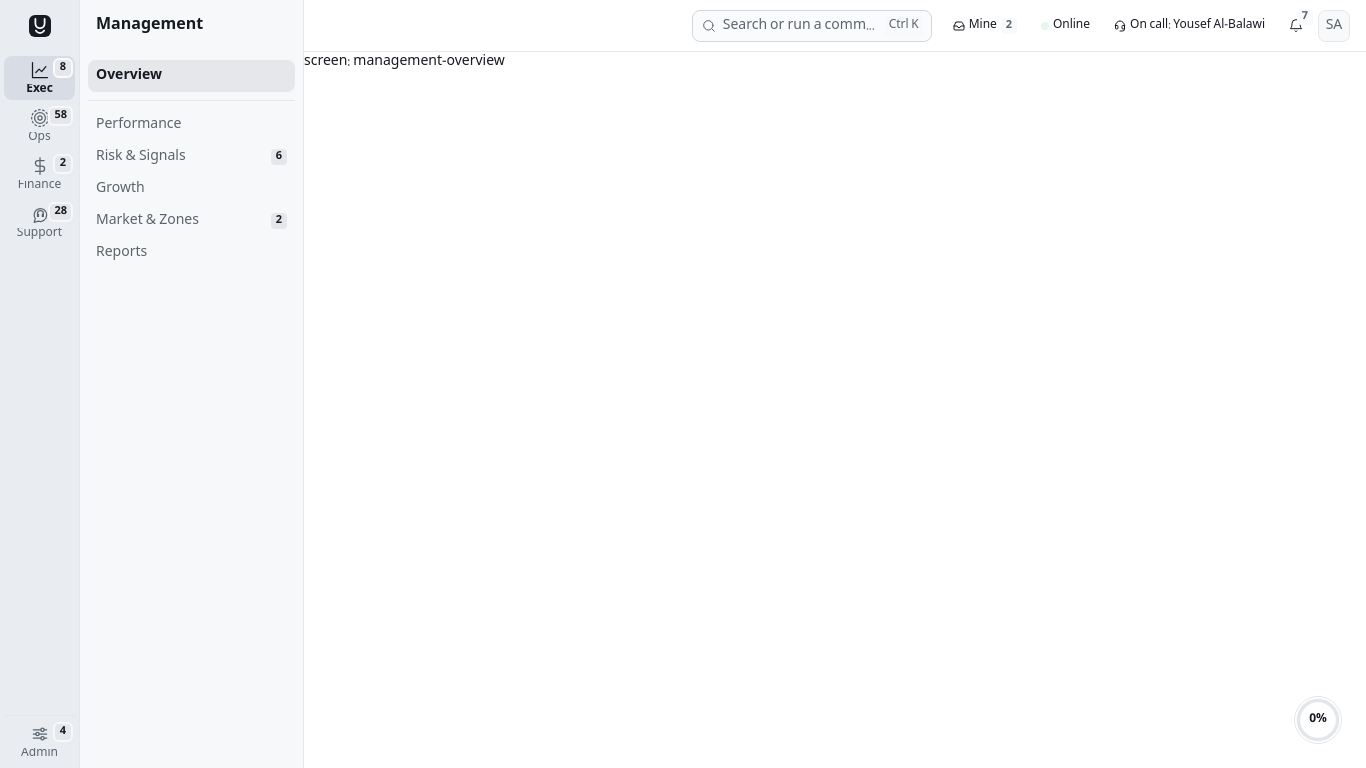
Test case: Beacon — "a ring with the percentage opens a small panel of the steps" › goes straight to a step's screen from the panel
Click the button "0%".
click(1318, 720)  # box [1294,696,1342,744]
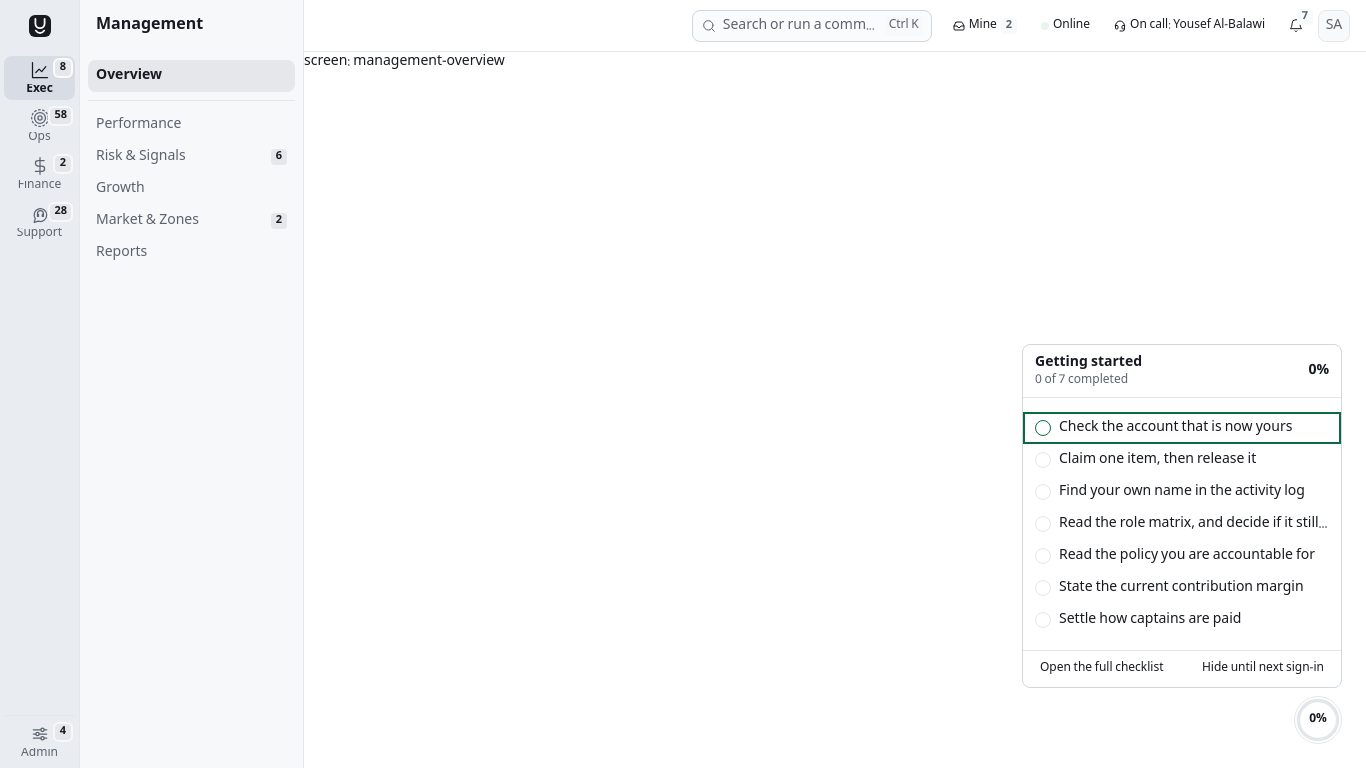
Click the button "Find your own name in the activity log".
click(1182, 492)  # box [1023,476,1341,508]
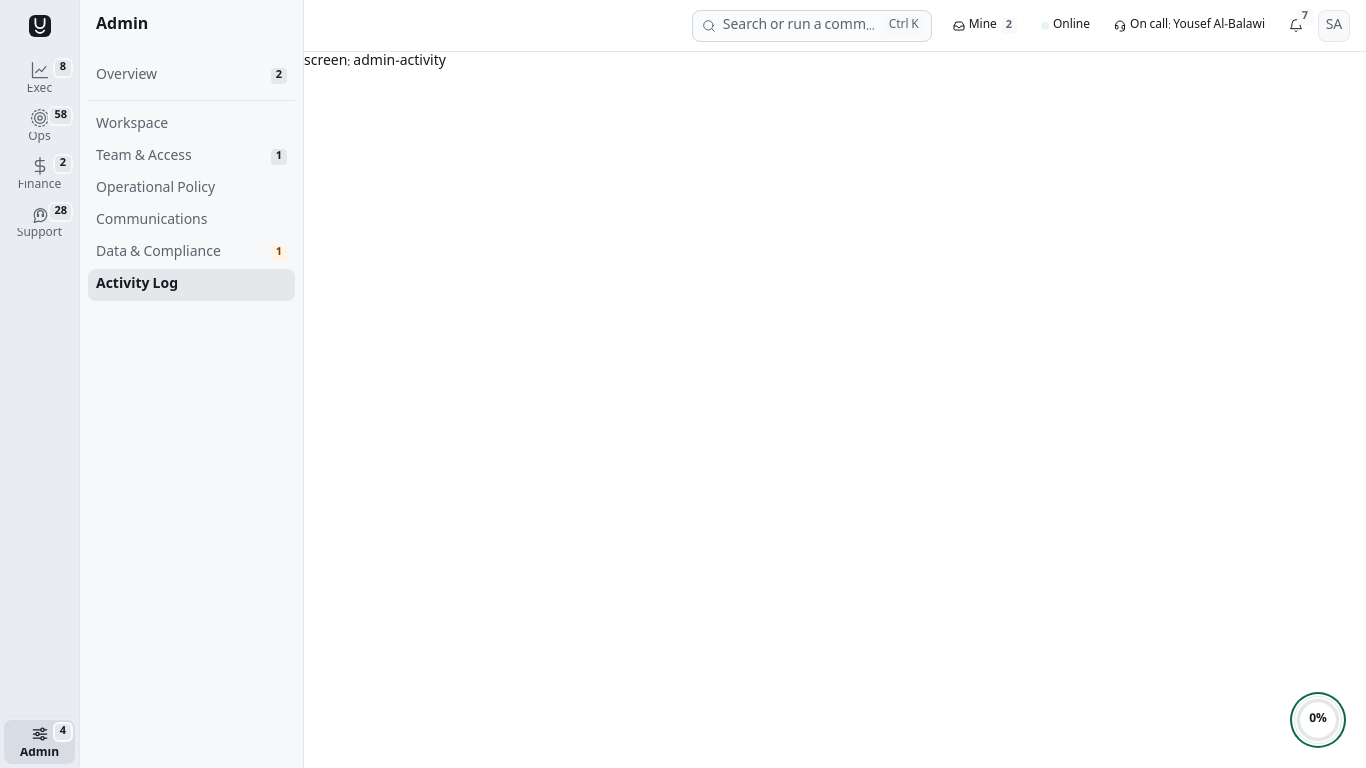
Check: the text "screen: admin-activity" is shown, box [304,52,446,74]
Check: the dialog with test id "onboarding-beacon-panel" is gone
